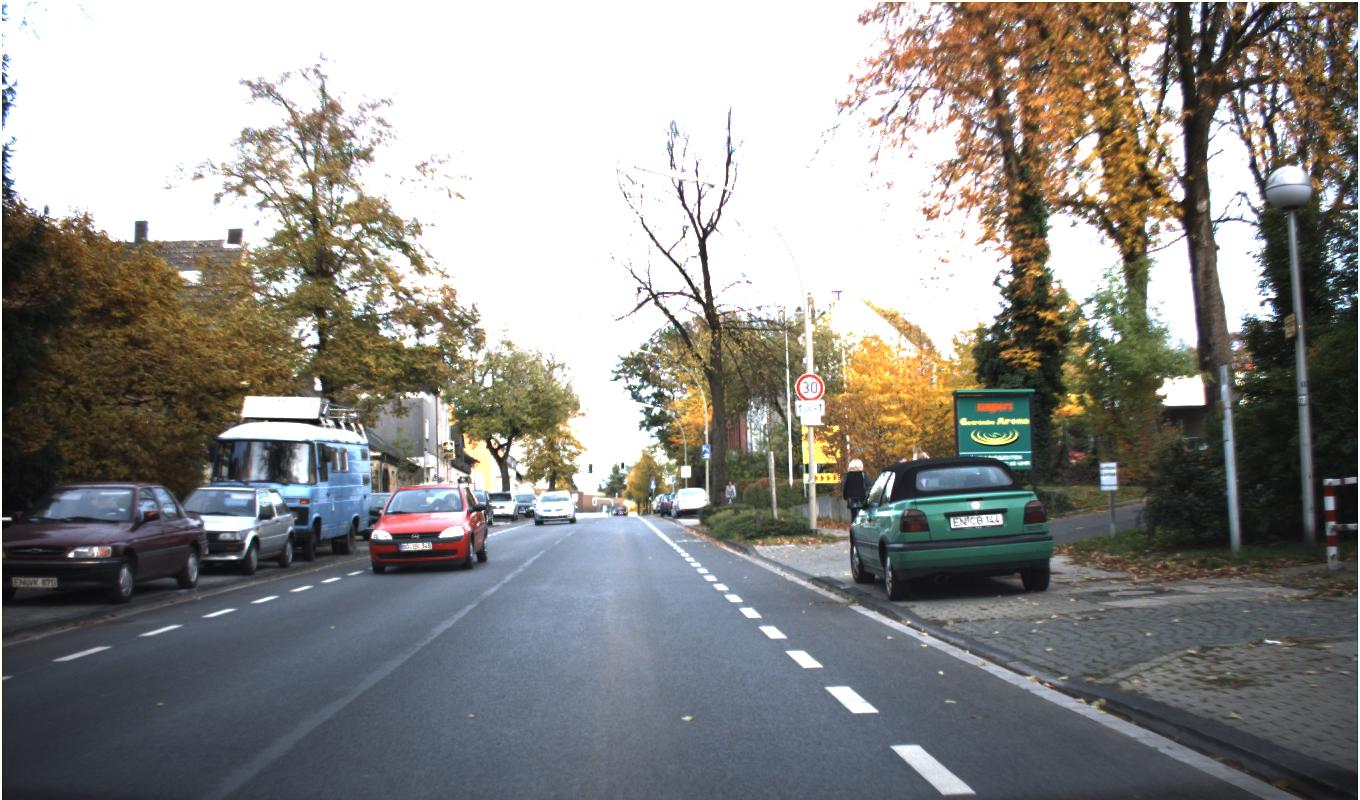prohibitory: (794, 372, 824, 401)
